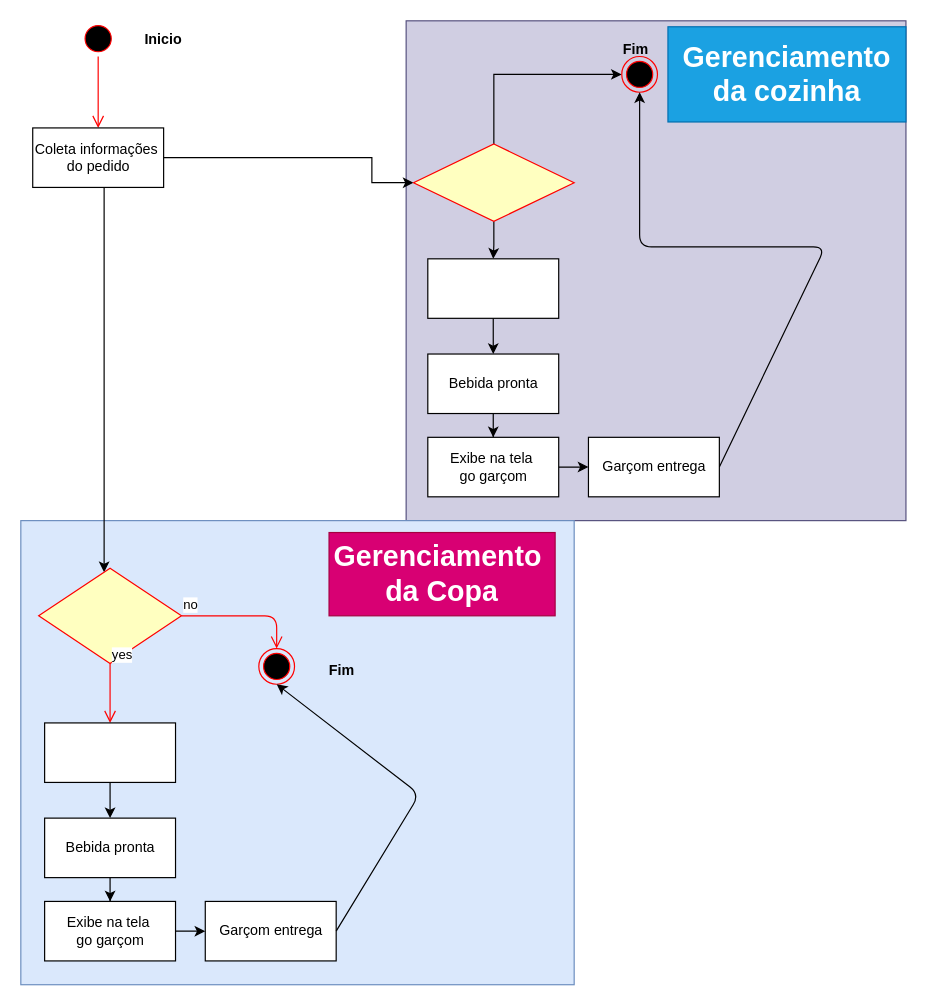
Some shapes in this 927 by 1006 pixel diagram are drawn without their labels. The shapes that lost their labels are listed below. From the top down, each one's centre as x and y in pixels, then its label:
point (493, 182): Tem comida ?
point (493, 288): Exibe na tela da cozinha
point (109, 615): Tem bebida ?
point (109, 752): Exibe na tela da copa
